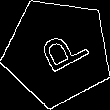P_SW: (27, 24, 88, 80)
